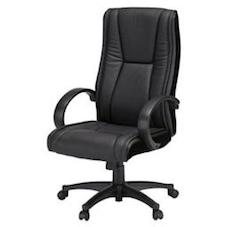chair: (41, 7, 197, 222)
